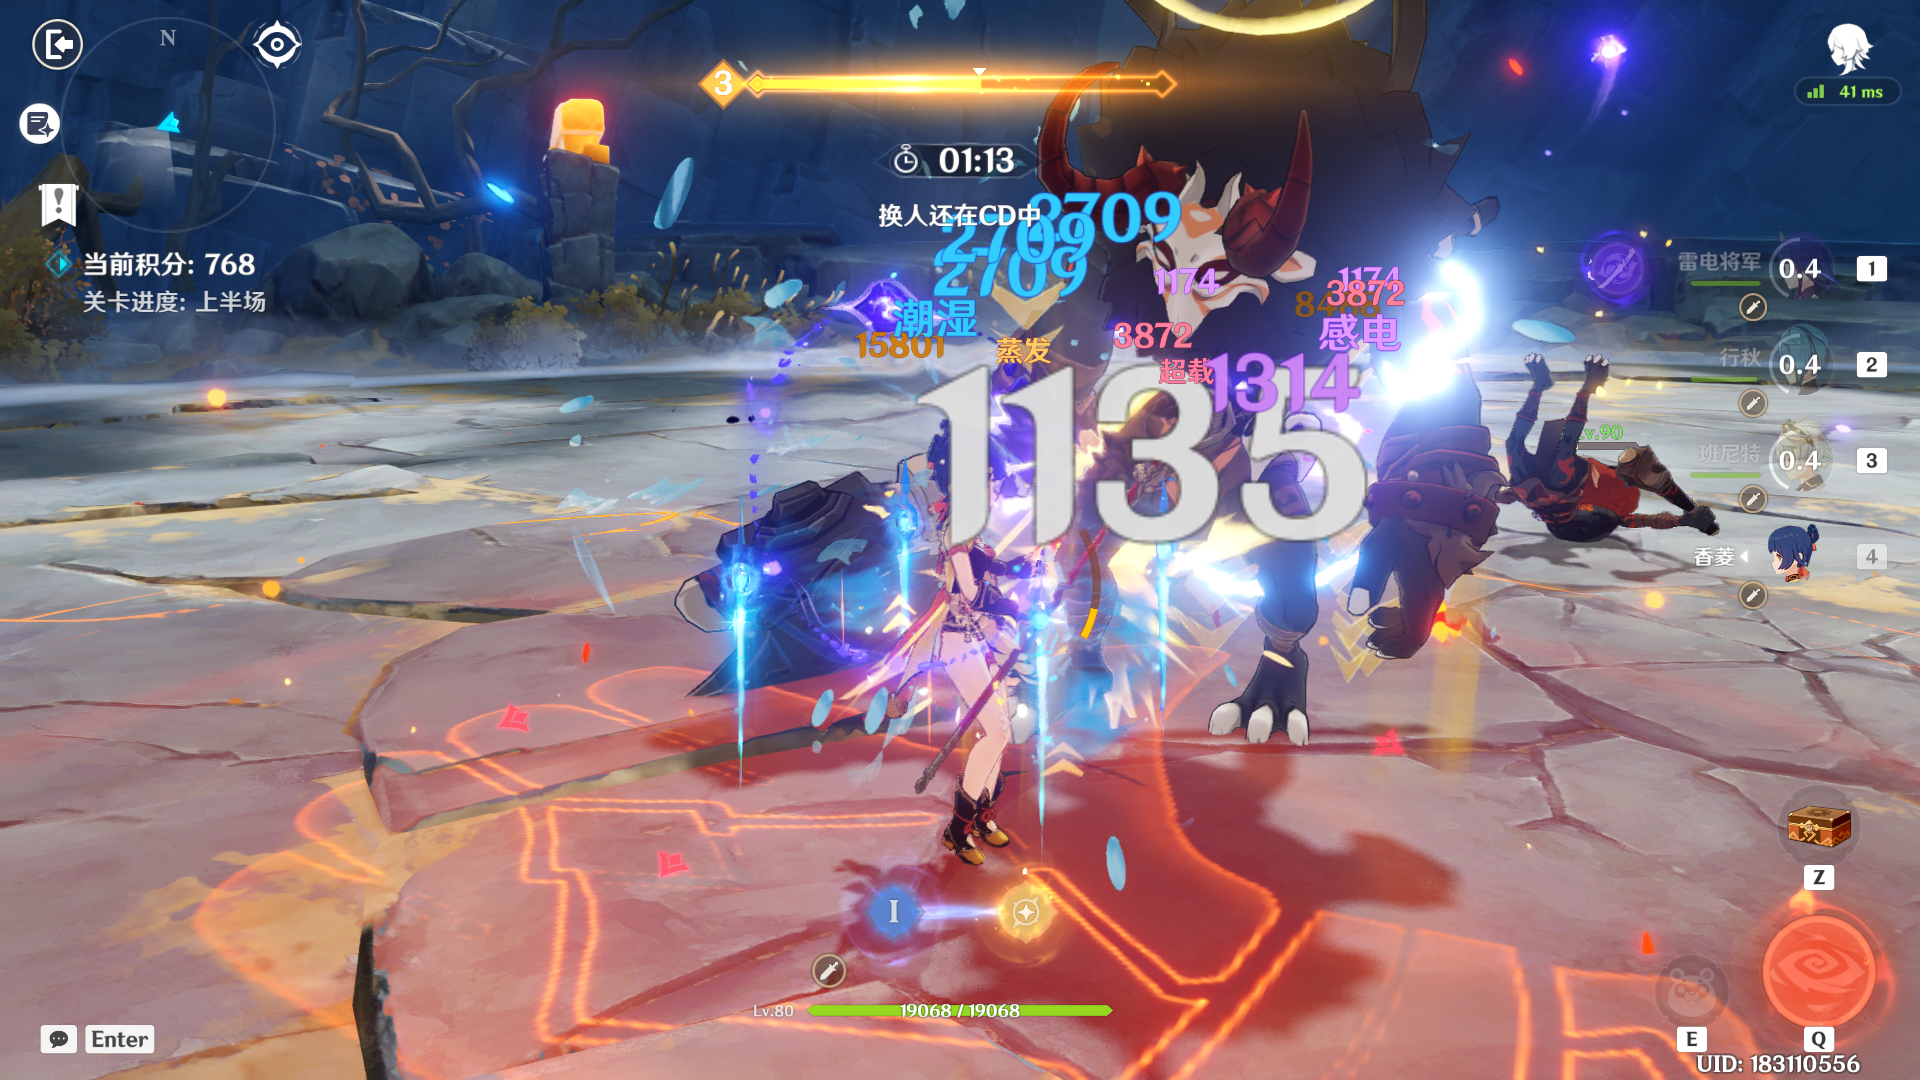bighili: (700, 1, 1528, 819)
character: (858, 392, 1100, 891)
hili: (1482, 324, 1698, 570)
